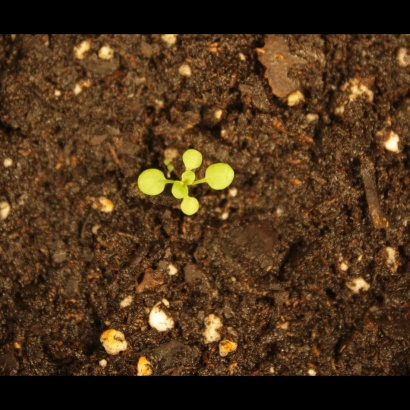leaf: (136, 164, 168, 200), (205, 157, 236, 194), (181, 146, 205, 172), (180, 196, 203, 219), (167, 181, 190, 204), (178, 167, 201, 190)
